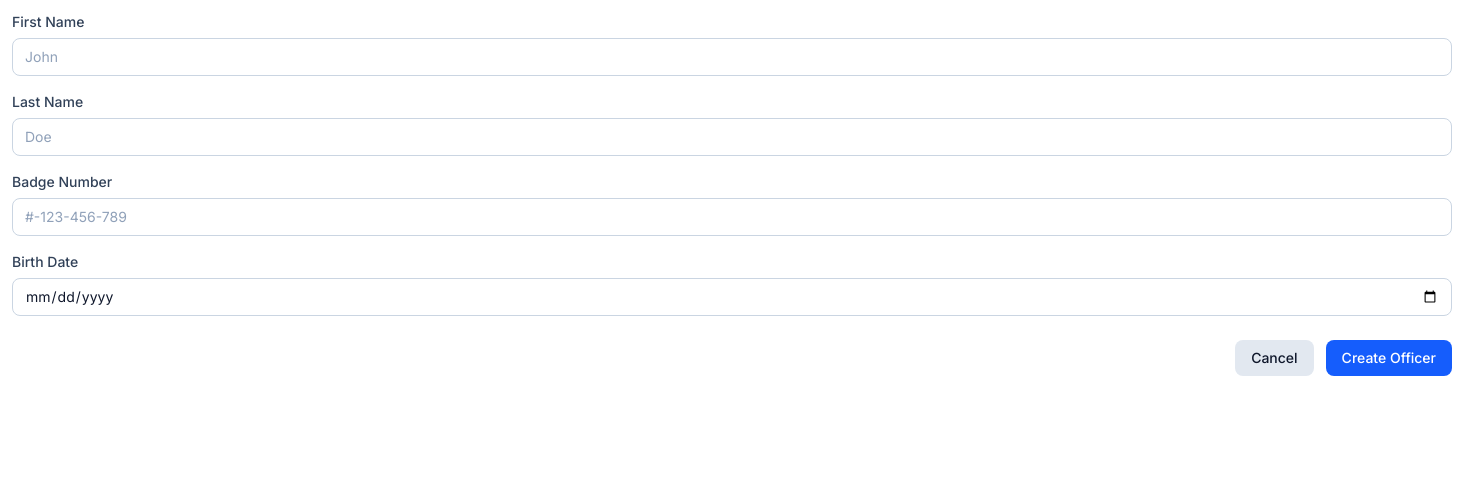
Test case: OfficerForm › shows validation errors for empty fields on submit
Click the button "Create Officer".
click(1389, 358)  # box top-left (1326, 340), bottom-right (1452, 376)
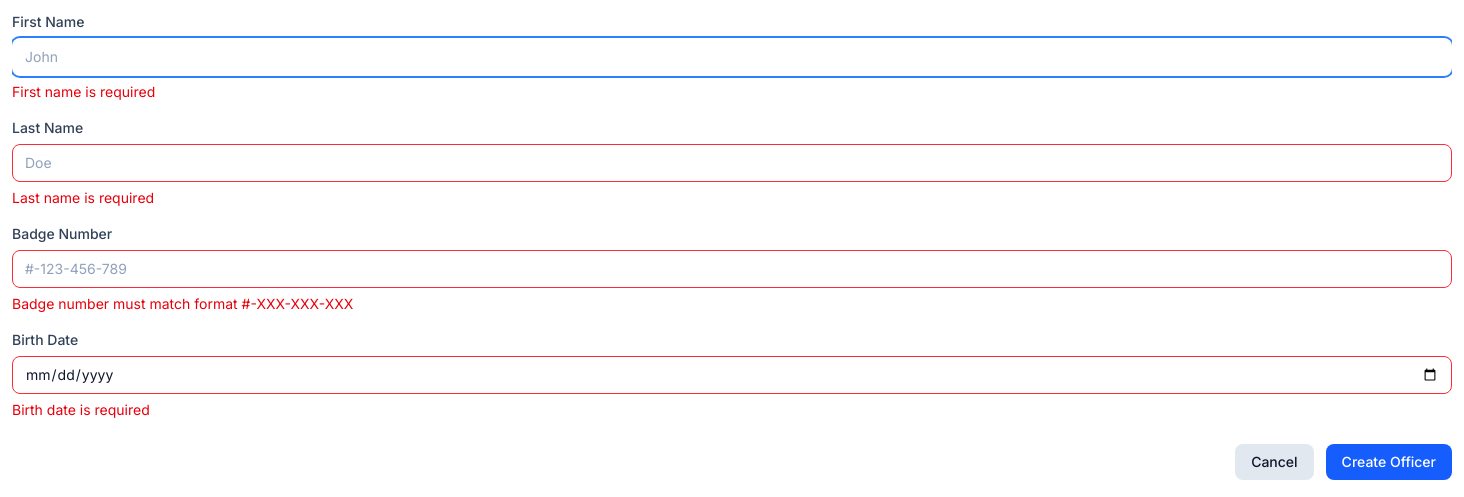
Expected: the text "First name is required" is shown, top-left (12, 83), bottom-right (155, 100)
Expected: the text "Last name is required" is shown, top-left (12, 189), bottom-right (154, 206)
